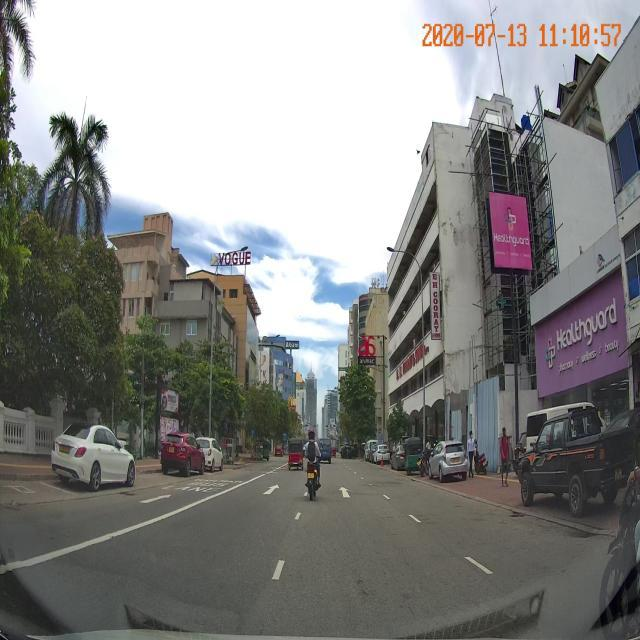forward: (297, 477, 398, 505)
